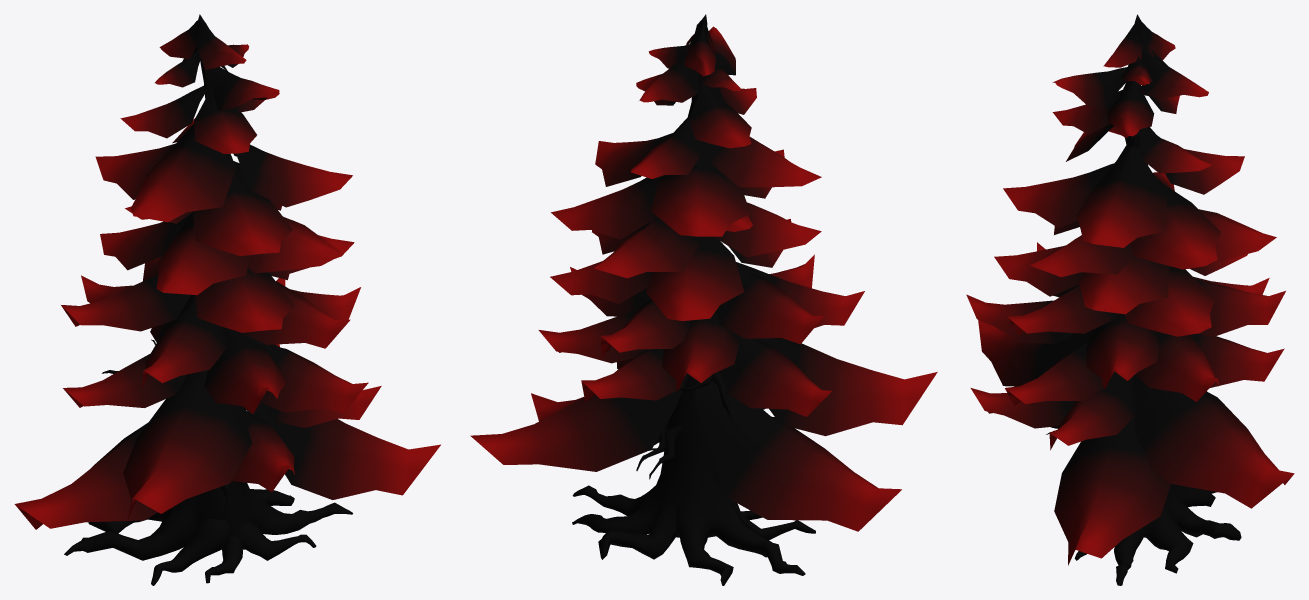
The model's file is SM_Mansion_Tree_01.fbx.
3 views of the same model, side by side, from view 1: azimuth 30°, elevation 25°; view 2: azimuth 150°, elevation 25°; view 3: azimuth 270°, elevation 25° (orthographic). The views are drawn at different scales.
Visible parts, largest first — view 1: SM_StylizedVillage_Tree_01; view 2: SM_StylizedVillage_Tree_01; view 3: SM_StylizedVillage_Tree_01.
Boxes of the visible parts, bbox=[...] form: SM_StylizedVillage_Tree_01: bbox=[14, 14, 440, 585]; SM_StylizedVillage_Tree_01: bbox=[470, 14, 937, 585]; SM_StylizedVillage_Tree_01: bbox=[966, 14, 1294, 585].
Bounding box in the file's own units: 754 × 964 × 559.
